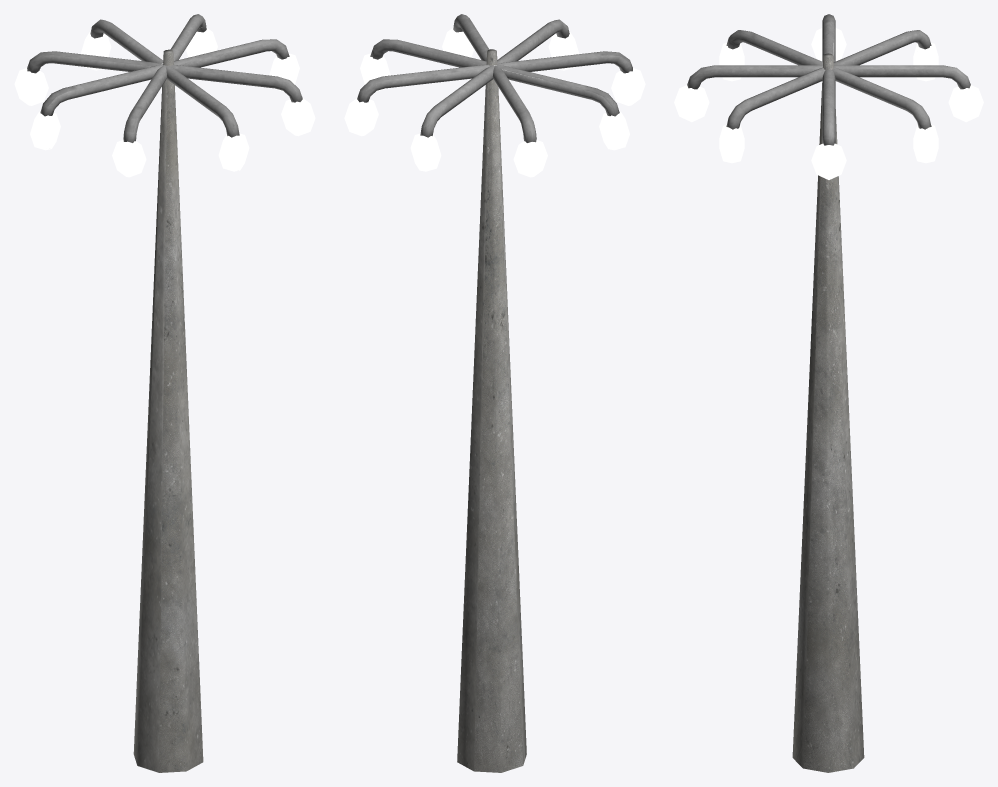
Rendered from street_lamp_big.glb.
3 renders of one model, left to right at view 1: azimuth 30°, elevation 25°; view 2: azimuth 150°, elevation 25°; view 3: azimuth 270°, elevation 25°, orthographic.
Visible parts, largest first — view 1: BigPole_BigPole_0; view 2: BigPole_BigPole_0; view 3: BigPole_BigPole_0.
Boxes of the visible parts, x1,y1,x2,y2 form: BigPole_BigPole_0: [14, 14, 315, 772]; BigPole_BigPole_0: [344, 14, 645, 772]; BigPole_BigPole_0: [674, 14, 983, 772].
Bounding box in the file's own units: 10 × 25 × 10.
1 material, 1 textured.
